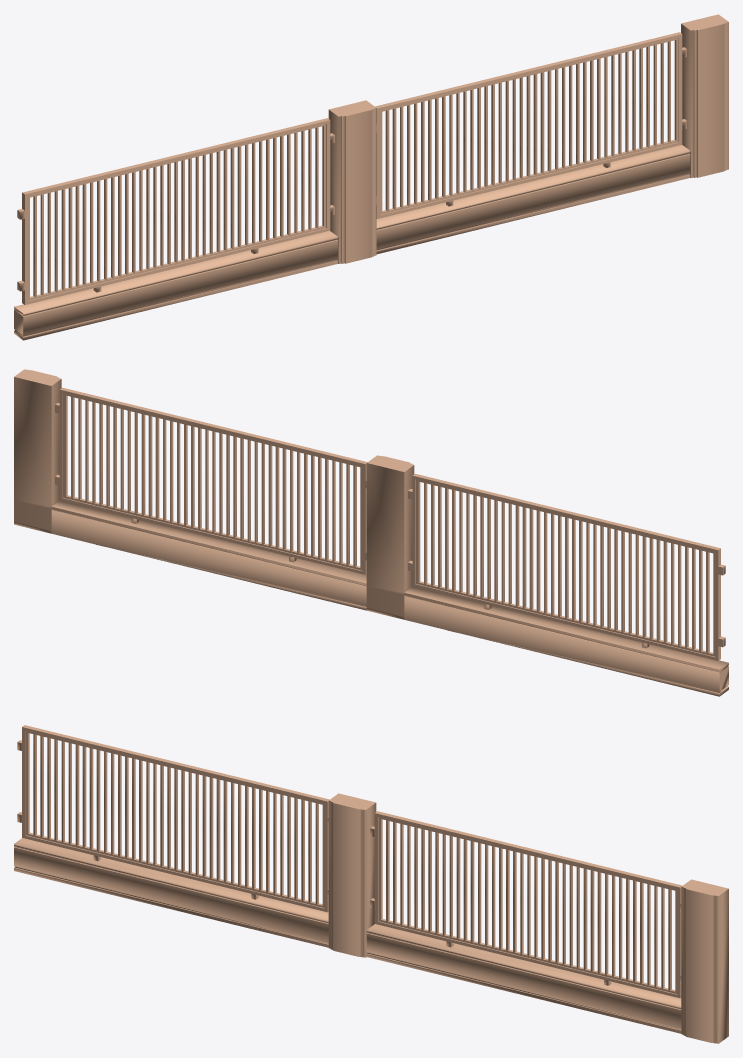
The model's file is wall.obj.
3 renders of one model, top to bottom at view 1: azimuth 30°, elevation 25°; view 2: azimuth 150°, elevation 25°; view 3: azimuth 330°, elevation 25°, orthographic.
Parts seen in each view (by area): view 1: Obj3d66_11396910_25_994, Obj3d66_11396910_24_657, Obj3d66_11396910_22_985, Obj3d66_11396910_20_949, Obj3d66_11396910_23_814; view 2: Obj3d66_11396910_25_994, Obj3d66_11396910_24_657, Obj3d66_11396910_22_985, Obj3d66_11396910_20_949, Obj3d66_11396910_23_814; view 3: Obj3d66_11396910_25_994, Obj3d66_11396910_22_985, Obj3d66_11396910_24_657, Obj3d66_11396910_23_814, Obj3d66_11396910_20_949.
Boxes of the visible parts, <box> form: Obj3d66_11396910_25_994: <box>17,32,686,304</box>; Obj3d66_11396910_24_657: <box>14,230,337,340</box>; Obj3d66_11396910_22_985: <box>376,145,690,254</box>; Obj3d66_11396910_20_949: <box>328,100,376,263</box>; Obj3d66_11396910_23_814: <box>681,14,728,177</box>; Obj3d66_11396910_25_994: <box>55,387,725,660</box>; Obj3d66_11396910_24_657: <box>404,586,728,696</box>; Obj3d66_11396910_22_985: <box>51,500,366,610</box>; Obj3d66_11396910_20_949: <box>366,455,414,619</box>; Obj3d66_11396910_23_814: <box>14,369,61,533</box>; Obj3d66_11396910_25_994: <box>17,725,682,998</box>; Obj3d66_11396910_22_985: <box>366,924,681,1033</box>; Obj3d66_11396910_24_657: <box>14,838,328,947</box>; Obj3d66_11396910_23_814: <box>681,879,728,1043</box>; Obj3d66_11396910_20_949: <box>328,793,376,957</box>.
Bounding box in the file's own units: 15000 × 3006 × 415.
